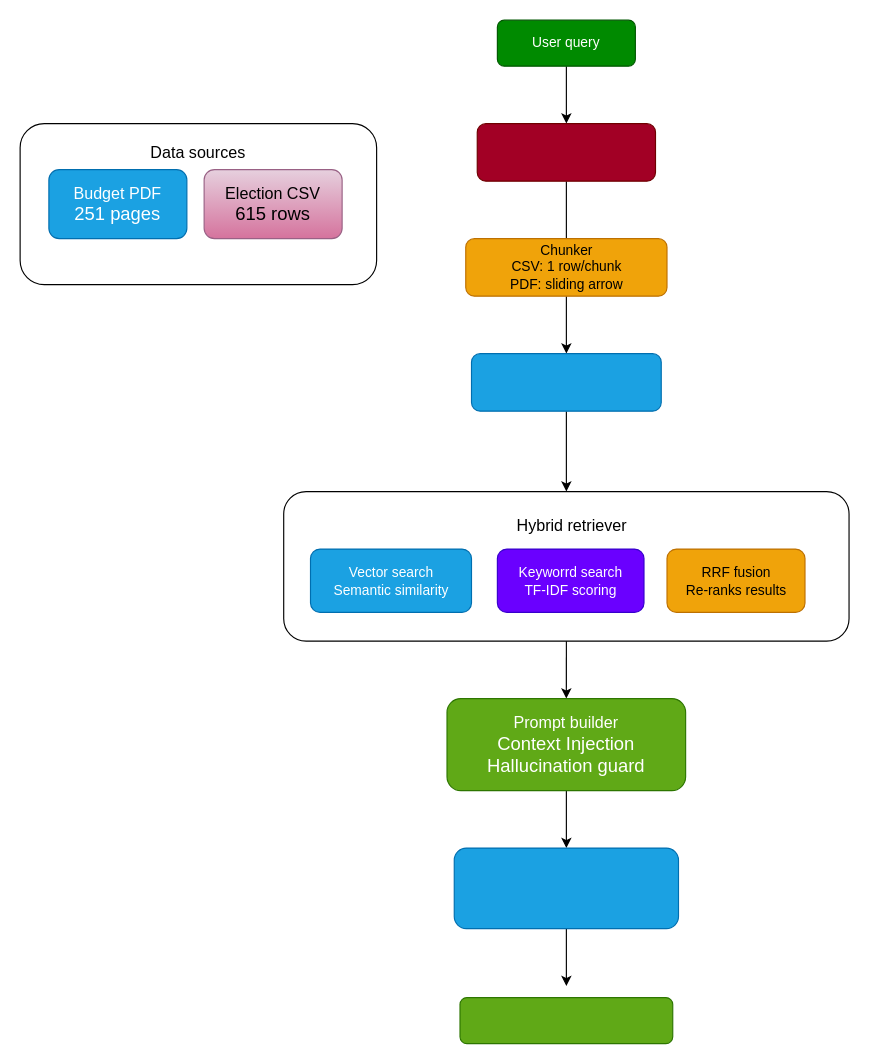
Some shapes in this 869 by 1064 pixel diagram are drawn without their labels. Here are the shapes that lost their labels. From the top down, the centre of each, then its label:
[566,151]: Embedder TF-IDF vectors
[565,381]: FAISS vector store IndexFlatIP Cosine similarity
[565,888]: Groq LLM llama-3.3-70b-versatile temp=0.2
[566,1020]: Streamlit UI response
